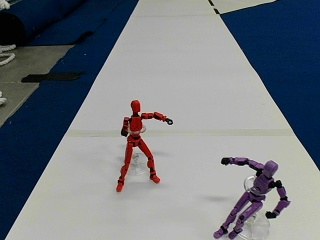pedestrian: (214, 156, 291, 237), (117, 101, 172, 191)
